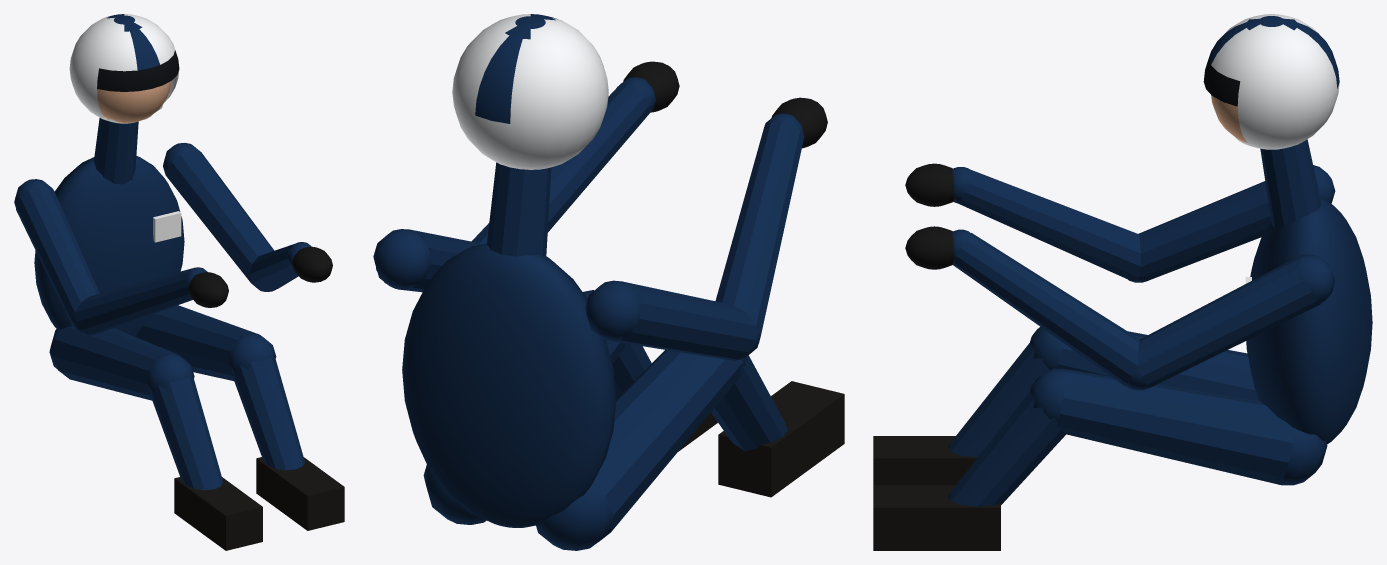
The model's file is pilot.obj.
The picture shows the model from 3 angles, left to right: view 1: azimuth 30°, elevation 25°; view 2: azimuth 150°, elevation 25°; view 3: azimuth 270°, elevation 25°; orthographic projection. The views are drawn at different scales.
Visible parts, largest first — view 1: corpo, bracos, cabeca; view 2: corpo, bracos, cabeca; view 3: corpo, bracos, cabeca.
Part boxes in pixels (left/top/right/bottom): corpo: left=34, top=118, right=344, bottom=550; bracos: left=14, top=143, right=332, bottom=335; cabeca: left=69, top=14, right=179, bottom=123; corpo: left=402, top=162, right=844, bottom=550; bracos: left=373, top=61, right=827, bottom=360; cabeca: left=452, top=14, right=608, bottom=169; corpo: left=873, top=139, right=1372, bottom=550; bracos: left=905, top=163, right=1335, bottom=390; cabeca: left=1203, top=14, right=1339, bottom=149.
Size of the model in its own units: 0.5693 by 1.03 by 0.94.
